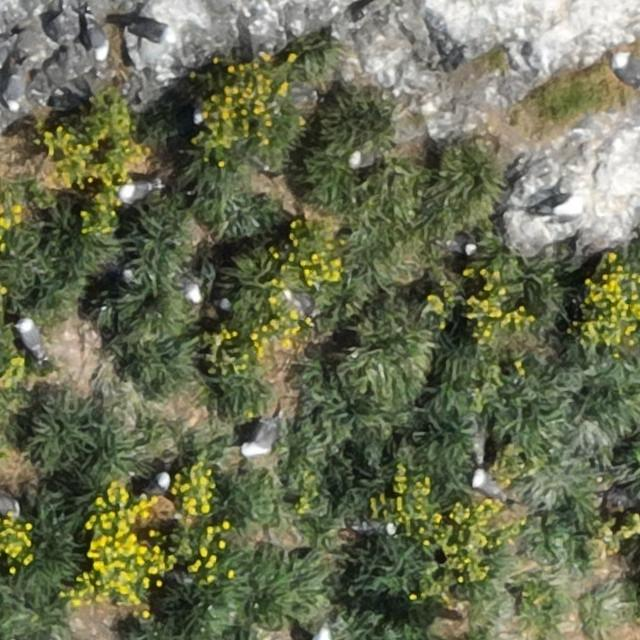umineko: (4, 55, 34, 114), (245, 423, 276, 456), (18, 319, 43, 358), (86, 22, 108, 62), (126, 20, 170, 40), (473, 473, 501, 498), (119, 182, 155, 201), (144, 472, 172, 496), (614, 58, 638, 86), (437, 235, 474, 253), (356, 524, 399, 538), (351, 150, 373, 168), (0, 492, 14, 515)
